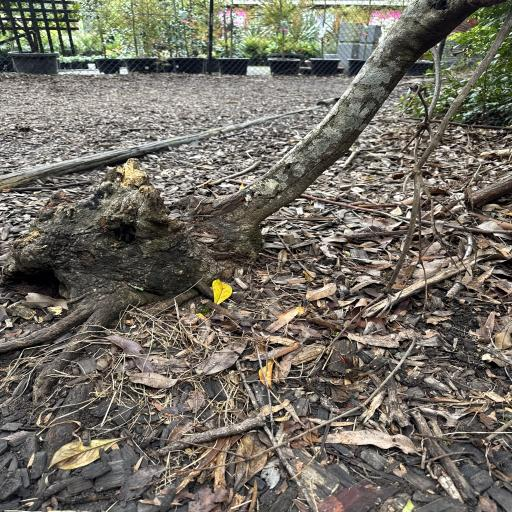tree root: (0, 0, 504, 352)
